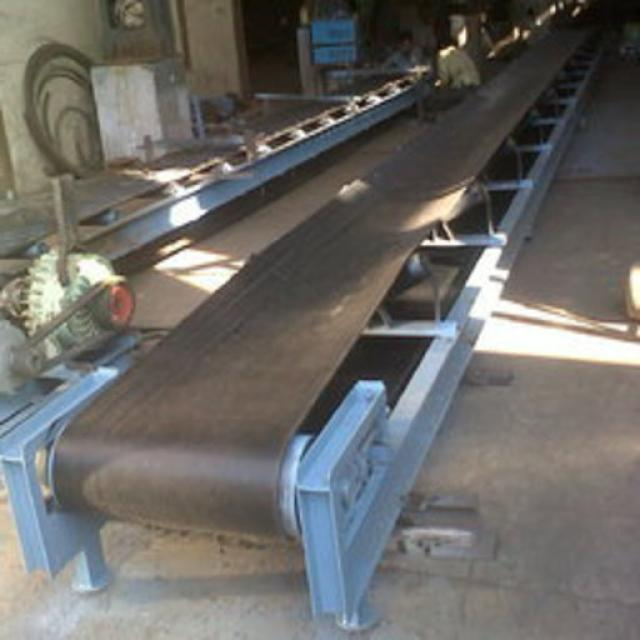conveyor: (47, 30, 585, 537)
